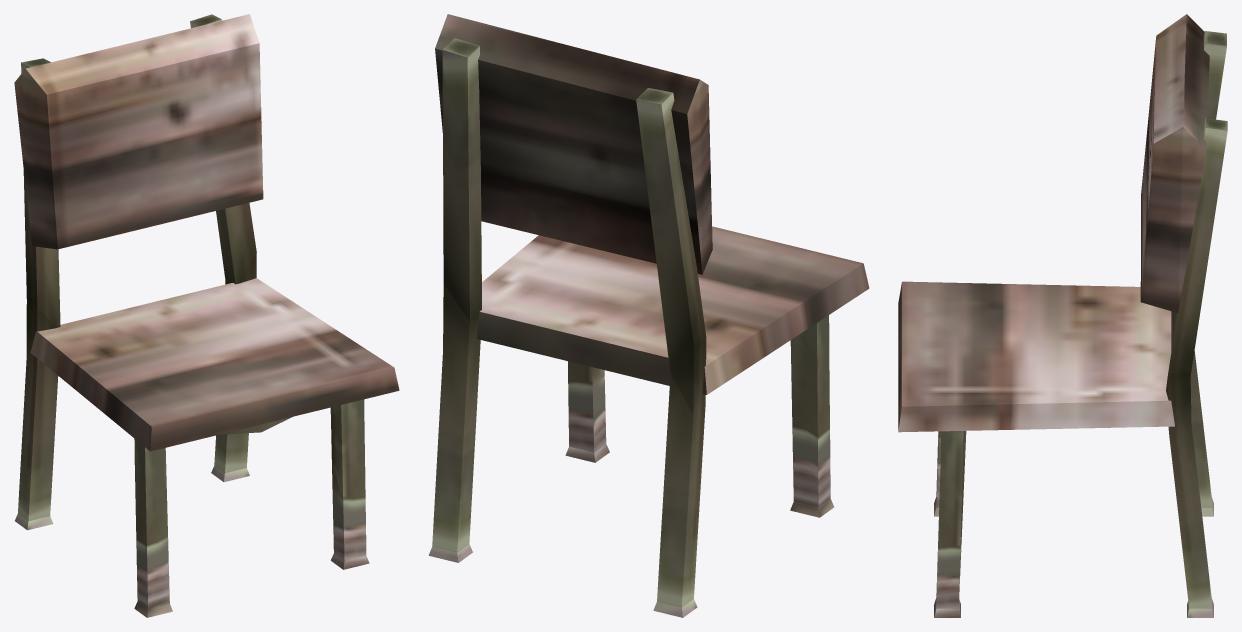
File: Wooden_Chair_01.fbx
The picture shows the model from 3 angles, left to right: view 1: azimuth 30°, elevation 25°; view 2: azimuth 150°, elevation 25°; view 3: azimuth 270°, elevation 25°; orthographic projection. The views are drawn at different scales.
Parts seen in each view (by area): view 1: Chair; view 2: Chair; view 3: Chair.
Part boxes in pixels (bbox=[...]): Chair: bbox=[14, 14, 399, 617]; Chair: bbox=[428, 14, 869, 617]; Chair: bbox=[898, 14, 1227, 617].
Size of the model in its own units: 67.78 by 121 by 73.45.
